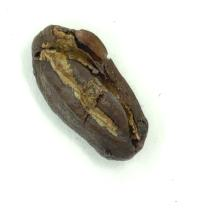NG: (67, 84, 149, 156), (32, 24, 113, 89)
